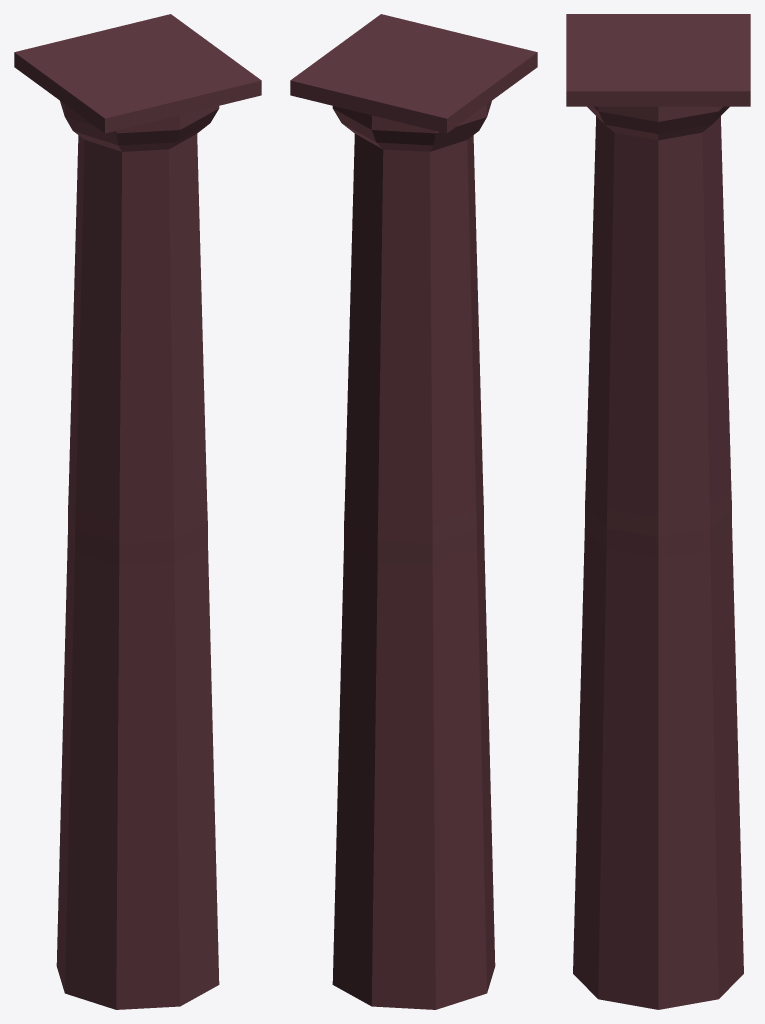
Rendered from SM_Pillar_Doric_Medium_Color_Empire.fbx.
The picture shows the model from 3 angles, left to right: view 1: azimuth 30°, elevation 25°; view 2: azimuth 150°, elevation 25°; view 3: azimuth 270°, elevation 25°; orthographic projection.
Parts seen in each view (by area): view 1: SM_Pillar_Doric_Medium_Color_Empire; view 2: SM_Pillar_Doric_Medium_Color_Empire; view 3: SM_Pillar_Doric_Medium_Color_Empire.
Part boxes in pixels (x1=…): SM_Pillar_Doric_Medium_Color_Empire: x1=14, y1=14, x2=261, y2=1009; SM_Pillar_Doric_Medium_Color_Empire: x1=290, y1=14, x2=537, y2=1009; SM_Pillar_Doric_Medium_Color_Empire: x1=566, y1=14, x2=750, y2=1009.
Bounding box in the file's own units: 1.08 × 6 × 1.09.
